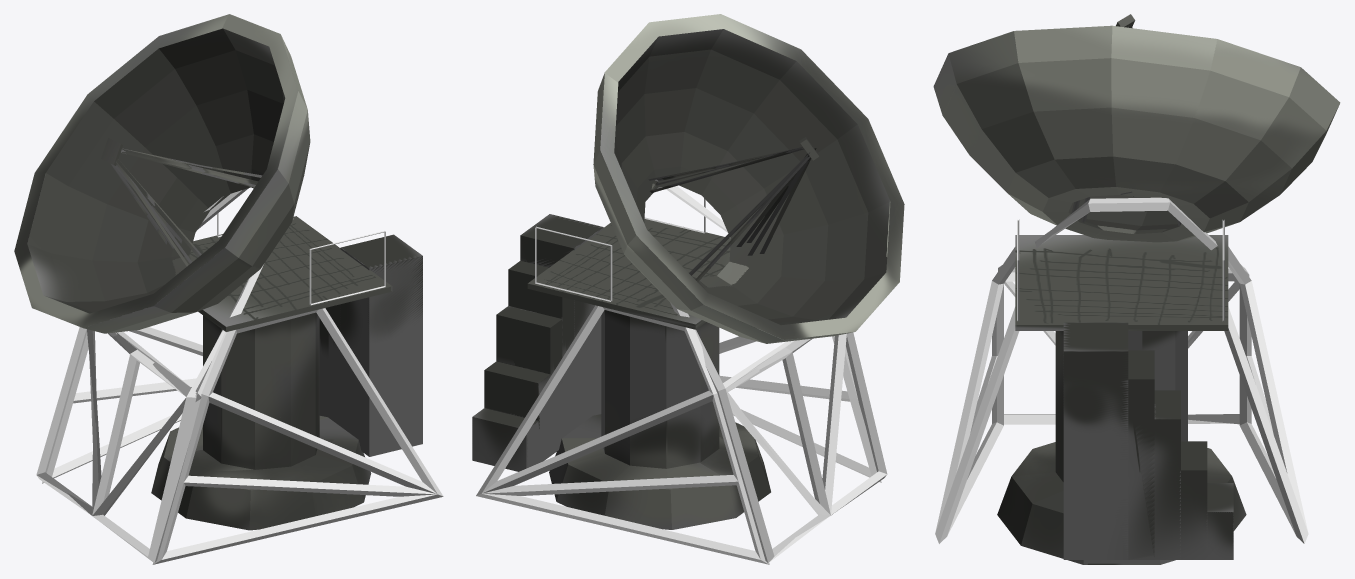
Rendered from Tower.fbx.
The picture shows the model from 3 angles, left to right: view 1: azimuth 30°, elevation 25°; view 2: azimuth 150°, elevation 25°; view 3: azimuth 270°, elevation 25°; orthographic projection. The views are drawn at different scales.
Visible parts, largest first — view 1: Torus, tekkin, base, stair, floor, 平面, waku; view 2: Torus, tekkin, base, stair, floor, 平面, waku.001; view 3: Torus, stair, tekkin, floor, base.
Part boxes in pixels (<box>): Torus: <box>14,14,310,333</box>; tekkin: <box>36,188,443,564</box>; base: <box>151,312,371,530</box>; stair: <box>319,234,422,456</box>; floor: <box>189,216,392,331</box>; 平面: <box>111,148,262,266</box>; waku: <box>309,230,385,305</box>; Torus: <box>593,14,904,343</box>; tekkin: <box>476,186,887,564</box>; base: <box>549,310,770,529</box>; stair: <box>472,214,603,471</box>; floor: <box>527,219,730,329</box>; 平面: <box>648,147,816,282</box>; waku.001: <box>535,226,612,301</box>; Torus: <box>933,25,1340,242</box>; stair: <box>1063,322,1233,559</box>; tekkin: <box>935,197,1308,543</box>; floor: <box>1015,235,1228,330</box>; base: <box>997,331,1246,564</box>.
Size of the model in its own units: 169 by 209 by 155.
Materials: 4 (4 with a texture image).
